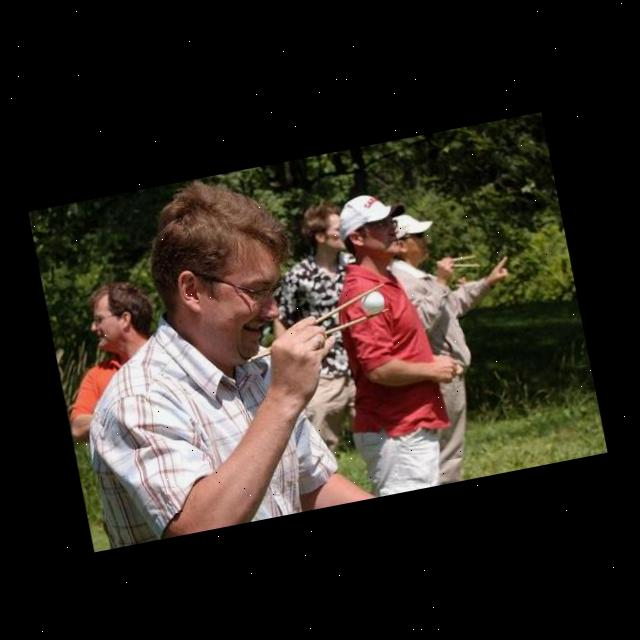ping-pong-ball: (358, 286, 387, 316)
